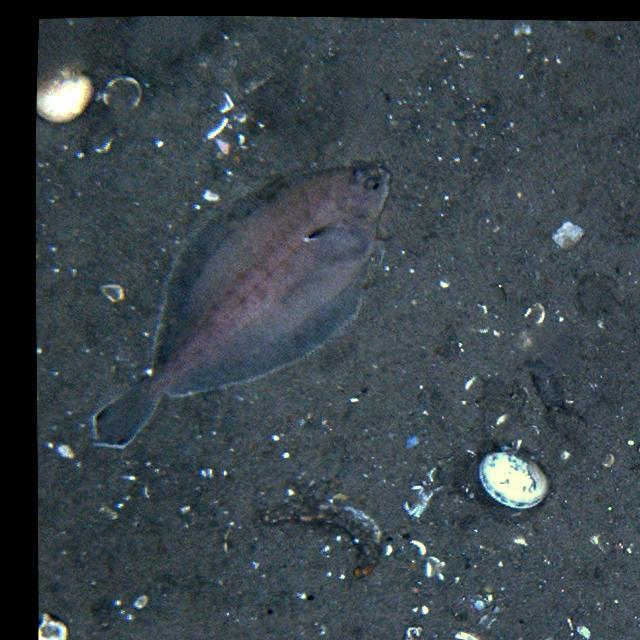flatfish: (77, 152, 406, 460)
